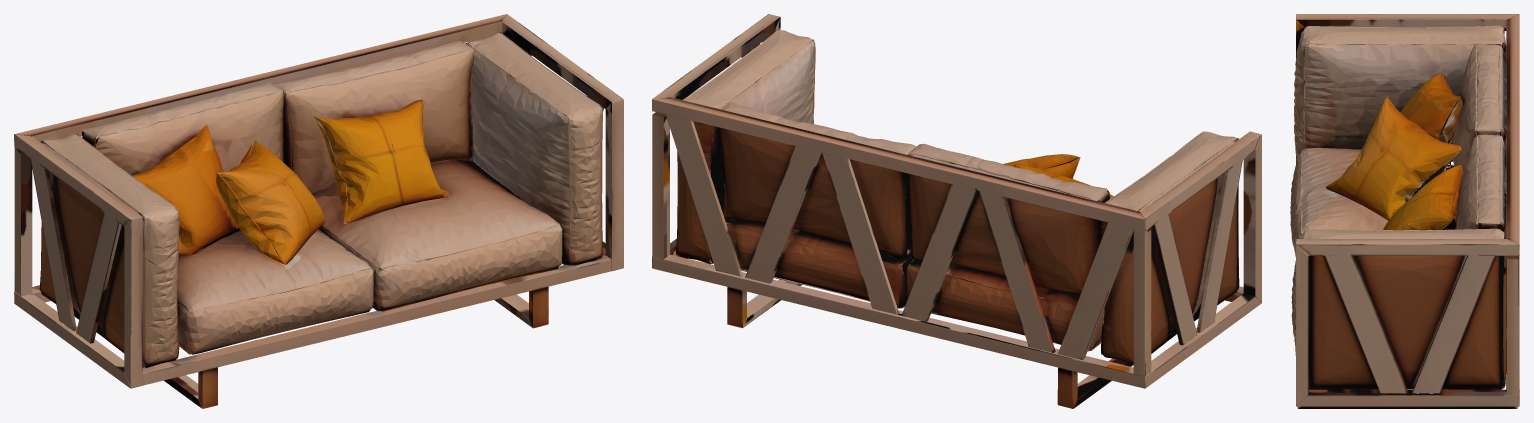
File: edited_mesh.glb
3 renders of one model, left to right at view 1: azimuth 30°, elevation 25°; view 2: azimuth 150°, elevation 25°; view 3: azimuth 270°, elevation 25°, orthographic. The views are drawn at different scales.
Parts seen in each view (by area): view 1: solid_001_wire; view 2: solid_001_wire; view 3: solid_001_wire.
Boxes of the visible parts, box(x1,y1,x2,y2) form: solid_001_wire: box(14, 14, 623, 408); solid_001_wire: box(652, 14, 1261, 408); solid_001_wire: box(1290, 14, 1519, 408).
Size of the model in its own units: 2 by 0.8164 by 0.8409.
1 material, 1 textured.
